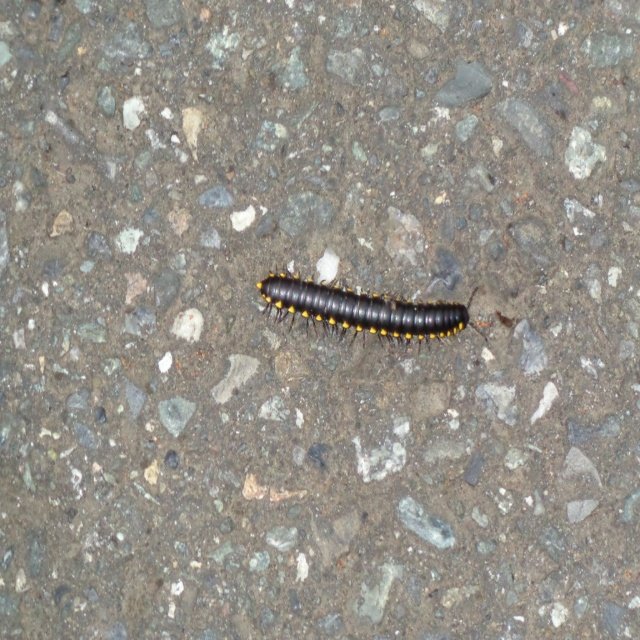Centipede: (255, 262, 484, 357)
